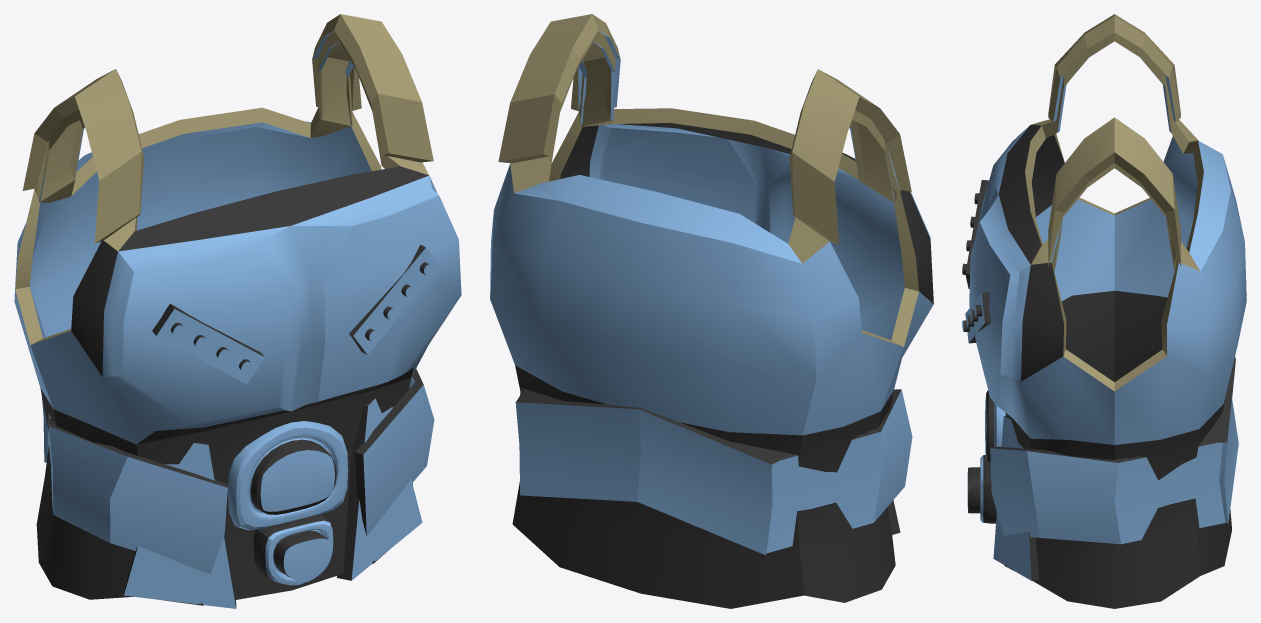
Rendered from T3_BulletproofVest.fbx.
The picture shows the model from 3 angles, left to right: view 1: azimuth 30°, elevation 25°; view 2: azimuth 150°, elevation 25°; view 3: azimuth 270°, elevation 25°; orthographic projection. The views are drawn at different scales.
Parts seen in each view (by area): view 1: vEST; view 2: vEST; view 3: vEST.
Part boxes in pixels (bbox=[...]): vEST: bbox=[14, 14, 461, 608]; vEST: bbox=[490, 14, 933, 608]; vEST: bbox=[962, 14, 1246, 608].
Size of the model in its own units: 1.02 by 0.6868 by 1.24.
